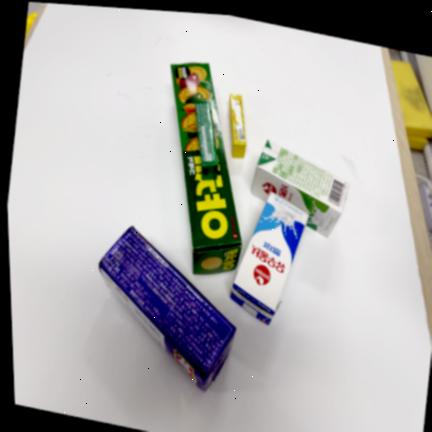cracker_ace: (99, 226, 236, 391)
cracker_vege: (170, 62, 241, 274)
gum_yellow: (227, 94, 246, 157)
milk_blue: (230, 193, 308, 324)
milk_green: (251, 139, 349, 237)
